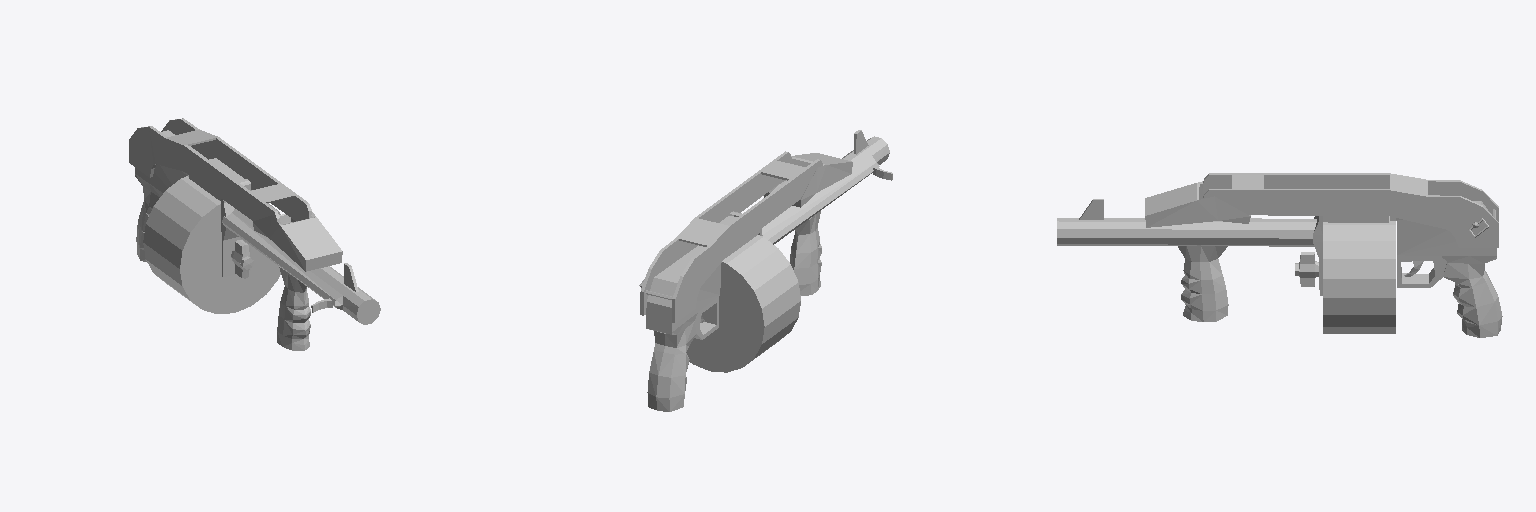
Rendered from StreetSweeper.obj.
3 renders of one model, left to right at view 1: azimuth 30°, elevation 25°; view 2: azimuth 150°, elevation 25°; view 3: azimuth 270°, elevation 25°, orthographic.
Visible parts, largest first — view 1: StreetSweeper; view 2: StreetSweeper; view 3: StreetSweeper.
Boxes of the visible parts, <box> form: StreetSweeper: <box>129,118,380,350</box>; StreetSweeper: <box>639,130,892,411</box>; StreetSweeper: <box>1057,173,1502,337</box>.
Bounding box in the file's own units: 0.3942 × 0.5113 × 1.39.